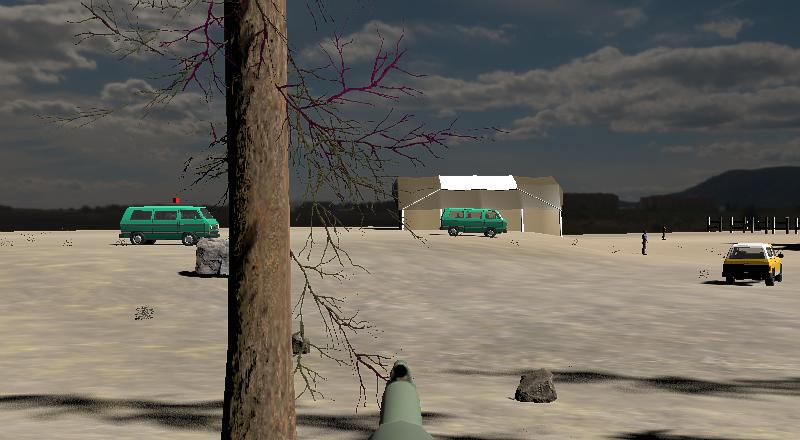Human: (639, 230, 651, 258)
car: (116, 202, 222, 248), (719, 239, 787, 289), (438, 205, 510, 239)
